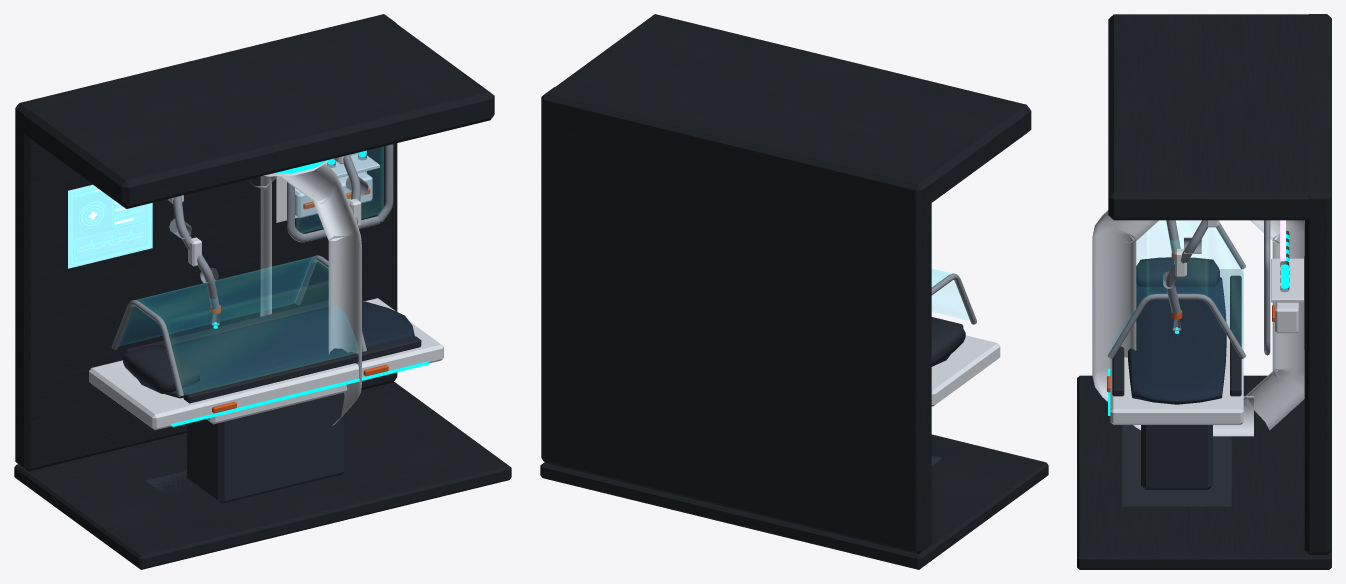
Rendered from med_autodoc_r1_04.glb.
The picture shows the model from 3 angles, left to right: view 1: azimuth 30°, elevation 25°; view 2: azimuth 150°, elevation 25°; view 3: azimuth 270°, elevation 25°; orthographic projection. The views are drawn at different scales.
Visible parts, largest first — view 1: Autodoc04_CryoPodGunmetalFrame, Autodoc04_TranslucentCryoCanopyAndPharmacy, Autodoc04_WhiteToroidalMRIAndBed, Autodoc04_CarbonSlatePedestal, Autodoc04_OrbitalNavyPad, Autodoc04_CharcoalBolsters, Autodoc04_OLEDVitalsConsole, Autodoc04_MachinedRoboticArmsAndCanopyArches, Autodoc04_CyanCryoAndVialsLED; view 2: Autodoc04_CryoPodGunmetalFrame, Autodoc04_WhiteToroidalMRIAndBed, Autodoc04_CharcoalBolsters, Autodoc04_TranslucentCryoCanopyAndPharmacy; view 3: Autodoc04_CryoPodGunmetalFrame, Autodoc04_WhiteToroidalMRIAndBed, Autodoc04_OrbitalNavyPad, Autodoc04_CarbonSlatePedestal, Autodoc04_TranslucentCryoCanopyAndPharmacy, Autodoc04_MachinedRoboticArmsAndCanopyArches, Autodoc04_CharcoalBolsters, Autodoc04_CyanCryoAndVialsLED.
Boxes of the visible parts, x1,y1,x2,y2 form: Autodoc04_CryoPodGunmetalFrame: [14, 14, 511, 569]; Autodoc04_TranslucentCryoCanopyAndPharmacy: [119, 147, 383, 394]; Autodoc04_WhiteToroidalMRIAndBed: [89, 150, 443, 430]; Autodoc04_CarbonSlatePedestal: [145, 392, 346, 503]; Autodoc04_OrbitalNavyPad: [137, 301, 414, 398]; Autodoc04_CharcoalBolsters: [123, 297, 421, 403]; Autodoc04_OLEDVitalsConsole: [68, 184, 152, 268]; Autodoc04_MachinedRoboticArmsAndCanopyArches: [111, 144, 393, 396]; Autodoc04_CyanCryoAndVialsLED: [171, 151, 428, 426]; Autodoc04_CryoPodGunmetalFrame: [540, 14, 1048, 569]; Autodoc04_WhiteToroidalMRIAndBed: [931, 335, 1000, 406]; Autodoc04_CharcoalBolsters: [931, 317, 965, 366]; Autodoc04_TranslucentCryoCanopyAndPharmacy: [932, 269, 969, 320]; Autodoc04_CryoPodGunmetalFrame: [1077, 14, 1331, 569]; Autodoc04_WhiteToroidalMRIAndBed: [1092, 210, 1304, 436]; Autodoc04_OrbitalNavyPad: [1128, 277, 1226, 404]; Autodoc04_CarbonSlatePedestal: [1122, 425, 1231, 506]; Autodoc04_TranslucentCryoCanopyAndPharmacy: [1111, 221, 1242, 348]; Autodoc04_MachinedRoboticArmsAndCanopyArches: [1107, 220, 1289, 358]; Autodoc04_CharcoalBolsters: [1112, 257, 1241, 396]; Autodoc04_CyanCryoAndVialsLED: [1108, 234, 1288, 415].
Size of the model in its own units: 2.2 by 2.12 by 1.3.
Materials: 12 (12 with a texture image).
